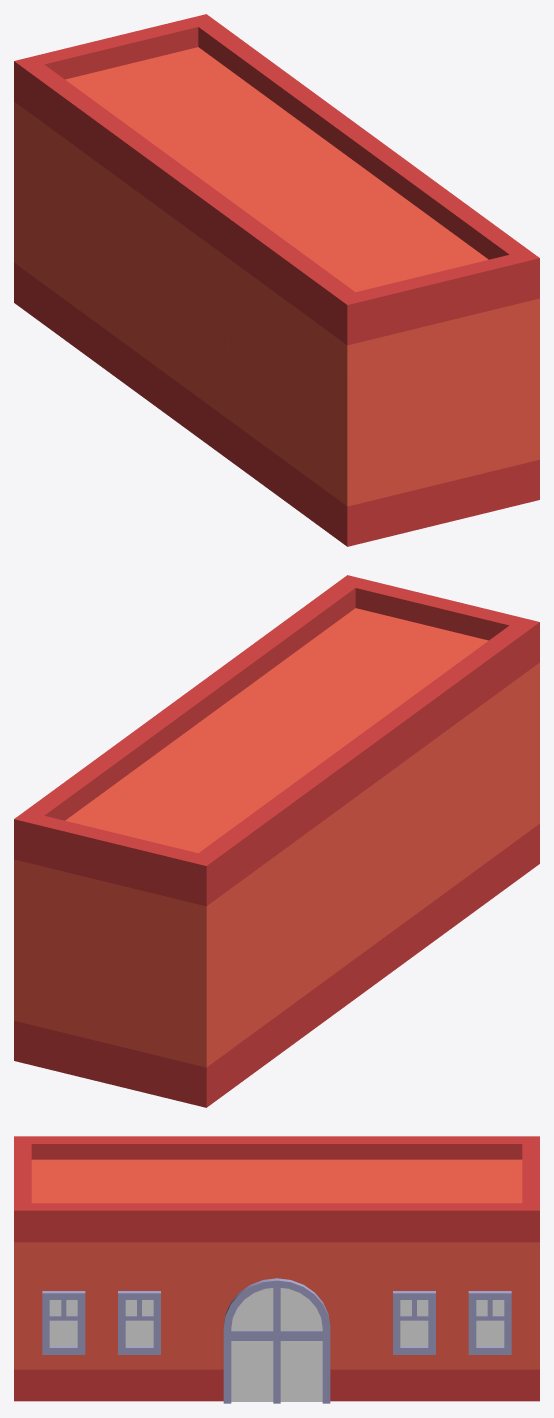
Rendered from carpenter.fbx.
3 views of the same model, one above another, from view 1: azimuth 30°, elevation 25°; view 2: azimuth 150°, elevation 25°; view 3: azimuth 270°, elevation 25° (orthographic). The views are drawn at different scales.
Visible parts, largest first — view 1: mergedBlocks; view 2: mergedBlocks; view 3: mergedBlocks.
Part boxes in pixels (left/top/right/bottom): mergedBlocks: left=14, top=14, right=539, bottom=546; mergedBlocks: left=14, top=575, right=539, bottom=1107; mergedBlocks: left=14, top=1136, right=539, bottom=1403.
Size of the model in its own units: 0.103 by 0.12 by 0.3.
